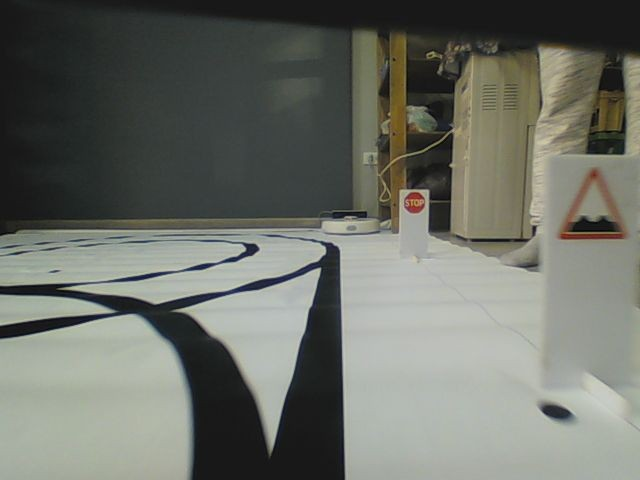Nerov: (555, 166, 629, 241)
Stop: (403, 190, 426, 214)
